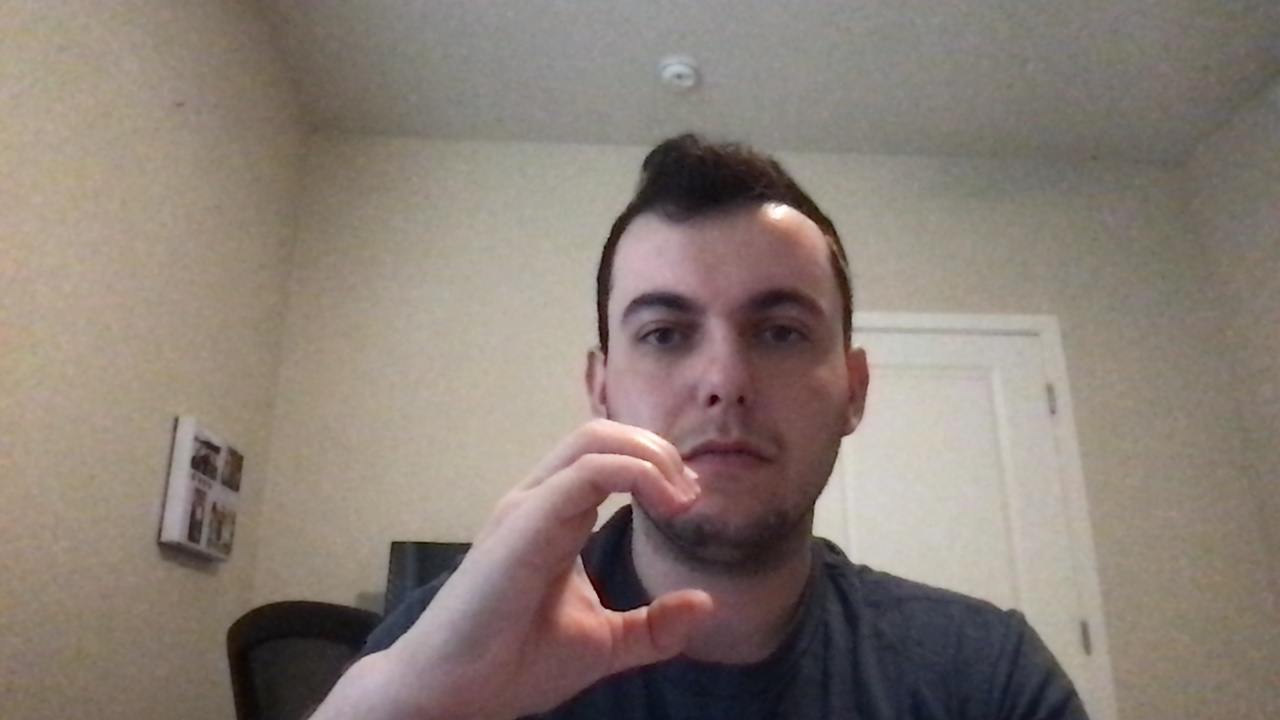c: (428, 415, 727, 705)
